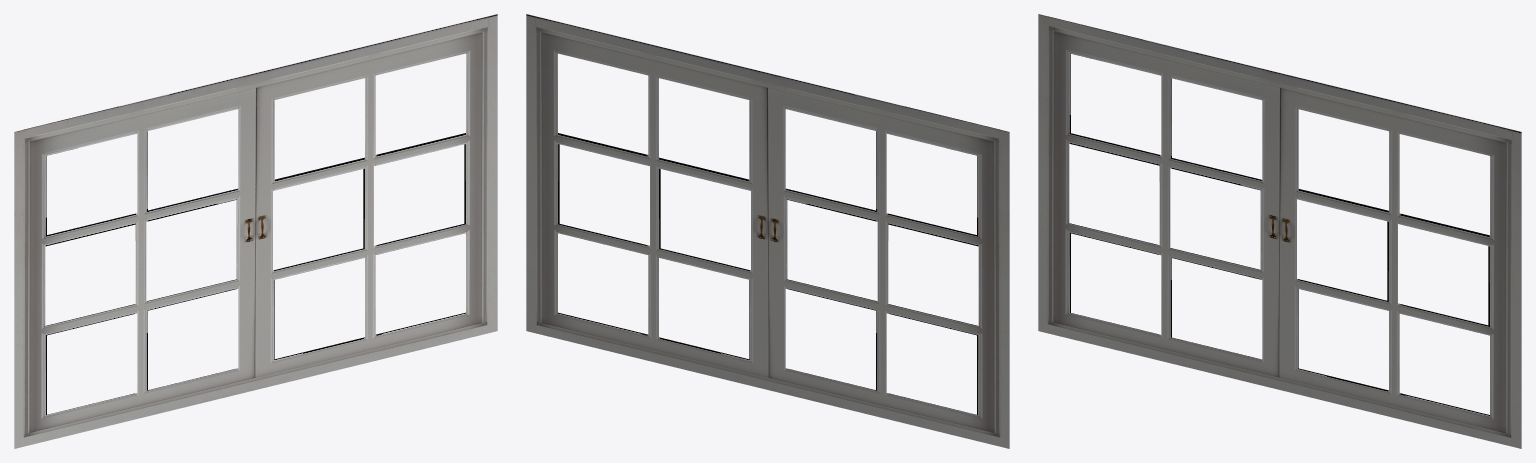
The model's file is Janela.glb.
The picture shows the model from 3 angles, left to right: view 1: azimuth 30°, elevation 25°; view 2: azimuth 150°, elevation 25°; view 3: azimuth 330°, elevation 25°; orthographic projection.
Visible parts, largest first — view 1: Lateral_Esquerdo.003; view 2: Lateral_Esquerdo.003; view 3: Lateral_Esquerdo.003.
Part boxes in pixels (box(x1,y1,x2,y2)): Lateral_Esquerdo.003: box(14, 14, 497, 448); Lateral_Esquerdo.003: box(526, 14, 1009, 448); Lateral_Esquerdo.003: box(1038, 14, 1521, 448).
Bounding box in the file's own units: 4.22 × 2.64 × 0.
Materials: 1 (1 with a texture image).
